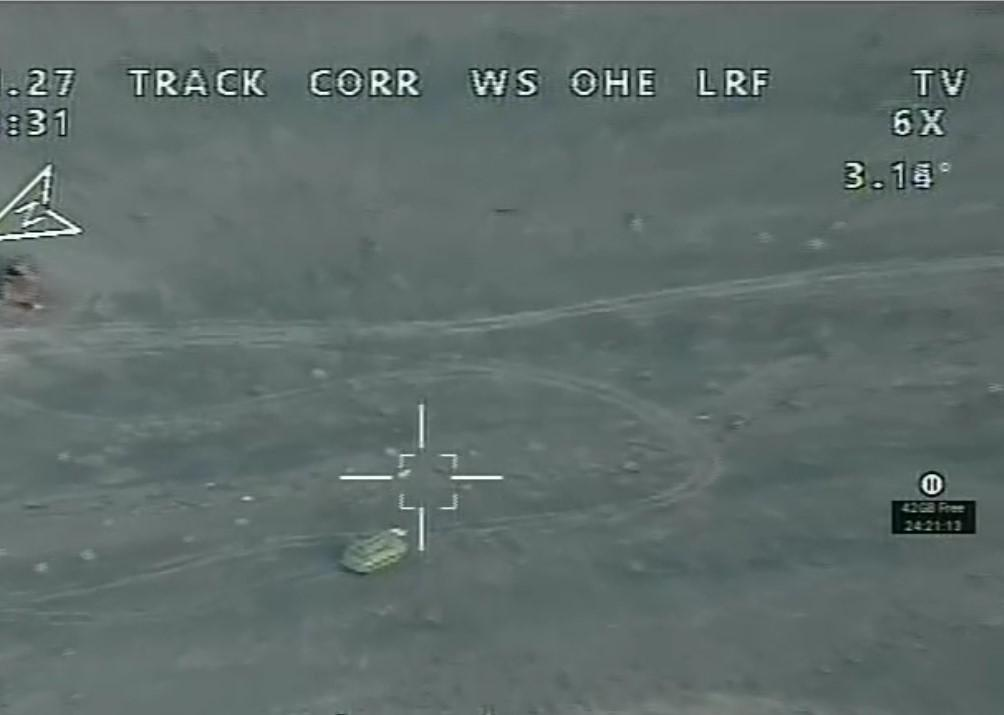armored_car: (337, 525, 412, 578)
